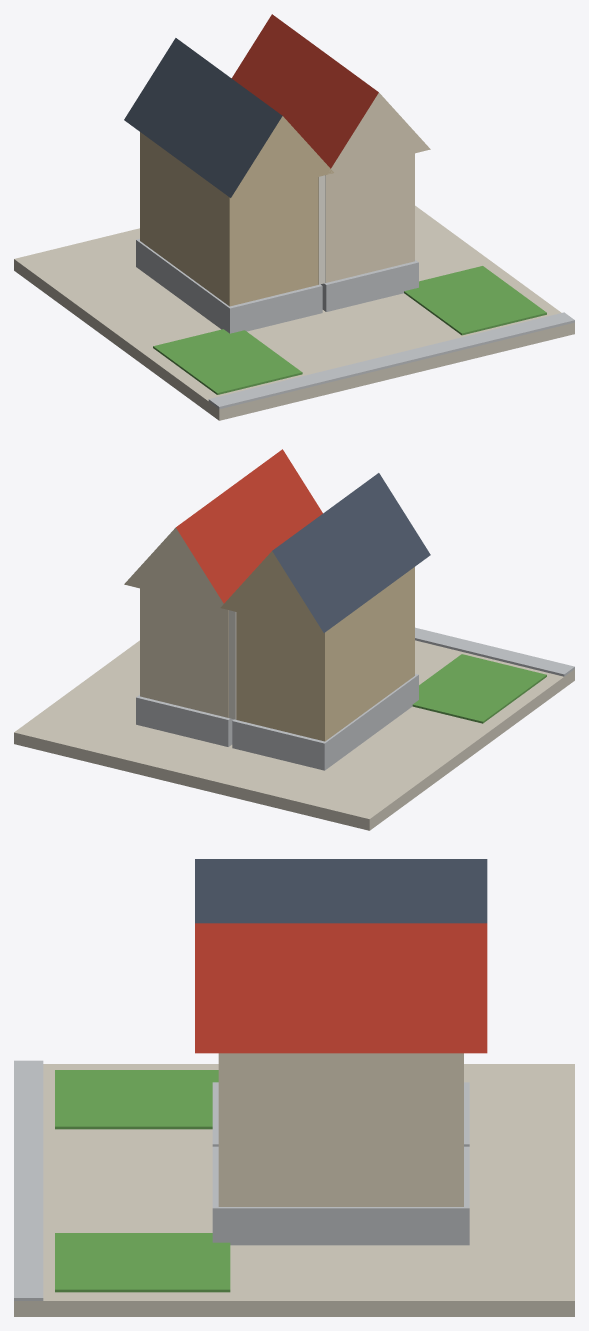
3 views of the same model, one above another, from view 1: azimuth 30°, elevation 25°; view 2: azimuth 150°, elevation 25°; view 3: azimuth 270°, elevation 25° (orthographic). The views are drawn at different scales.
Parts seen in each view (by area): view 1: b04_v2_lod2; view 2: b04_v2_lod2; view 3: b04_v2_lod2.
Boxes of the visible parts, box(x1,y1,x2,y2) form: b04_v2_lod2: box(14, 14, 574, 420); b04_v2_lod2: box(14, 449, 574, 830); b04_v2_lod2: box(14, 859, 574, 1316).
Bounding box in the file's own units: 0.96 × 0.58 × 0.96.
